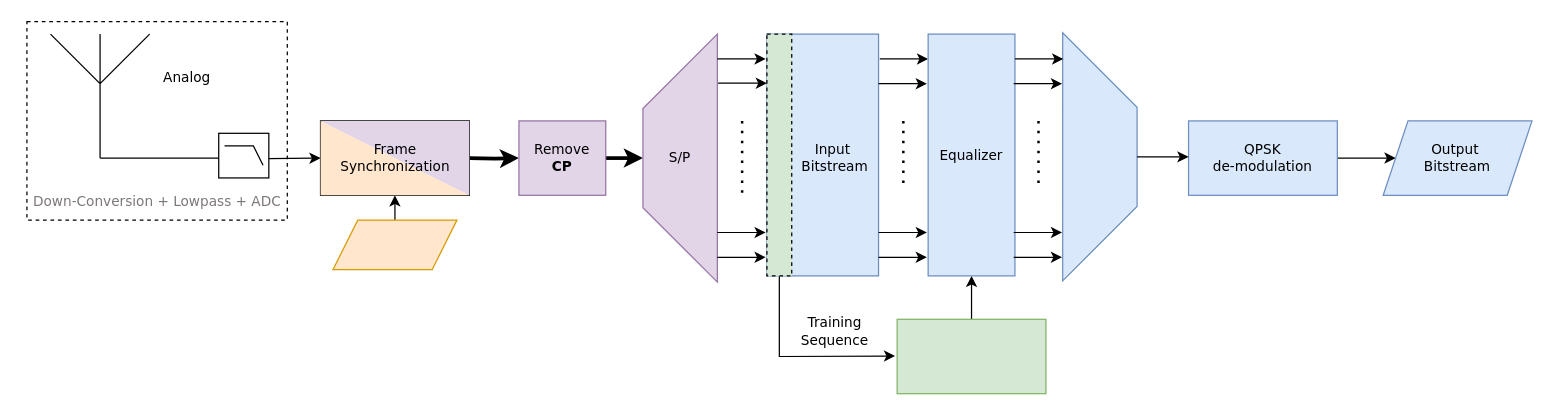
This 1555x415 diagram has some shape labels left out. The shapes that lost their labels are listed below. From the top down, each one's centre as x and y in pixels, then its label:
point 1099,156: P/S
point 394,244: Preamble
point 971,356: Channel Estimation
